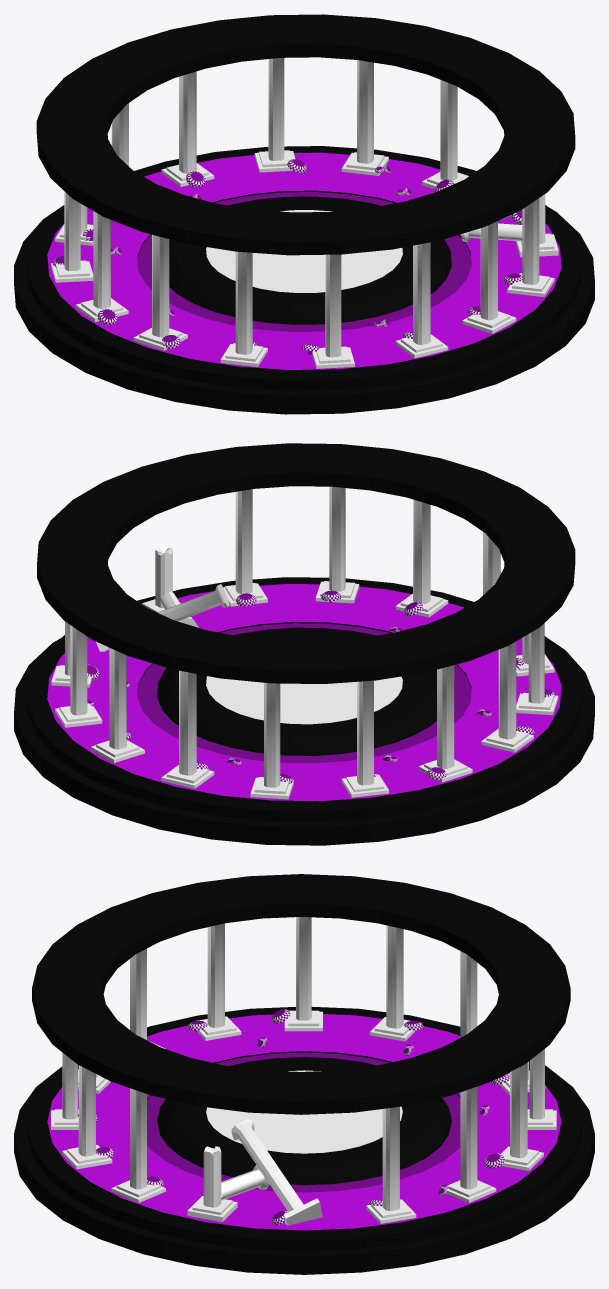
The model's file is TowerDefault.glb.
3 views of the same model, one above another, from view 1: azimuth 30°, elevation 25°; view 2: azimuth 150°, elevation 25°; view 3: azimuth 270°, elevation 25° (orthographic).
Parts seen in each view (by area): view 1: Cylinder, Circle.001, Cylinder.001, Circle, Cube.006, Cube.002, Cube.010, Cube.005, Cube.015, Cube.009, Cube.014, Cube.001 (+6 smaller); view 2: Cylinder, Circle.001, Cylinder.001, Circle, Cube.001, Cube.008, Cube.004, Cube.009, Cube.016, Cube.002, Cube.012, Cube.007 (+7 smaller); view 3: Cylinder, Circle.001, Cylinder.001, Circle, Cube.011, Cube.003, Cube.013, Cube.005, Cube.014, Cube.012, Cube.007, Cube.004 (+6 smaller).
Boxes of the visible parts, <box> form: Cylinder: <box>14,146,594,414</box>; Circle.001: <box>36,14,575,255</box>; Cylinder.001: <box>27,146,580,380</box>; Circle: <box>137,192,471,331</box>; Cube.006: <box>220,251,267,366</box>; Cube.002: <box>395,242,448,358</box>; Cube.010: <box>312,254,354,368</box>; Cube.005: <box>341,60,388,175</box>; Cube.015: <box>462,221,516,333</box>; Cube.009: <box>254,58,295,172</box>; Cube.014: <box>133,234,187,350</box>; Cube.001: <box>161,71,214,186</box>; Cylinder: <box>14,577,594,845</box>; Circle.001: <box>37,443,575,683</box>; Cylinder.001: <box>27,577,581,811</box>; Circle: <box>137,623,471,763</box>; Cube.001: <box>161,670,214,788</box>; Cube.008: <box>341,680,388,797</box>; Cube.004: <box>481,641,533,752</box>; Cube.009: <box>91,647,144,762</box>; Cube.016: <box>250,682,293,799</box>; Cube.002: <box>395,499,448,617</box>; Cube.012: <box>418,665,472,782</box>; Cube.007: <box>223,489,267,606</box>; Cylinder: <box>14,1006,594,1274</box>; Circle.001: <box>32,874,570,1114</box>; Cylinder.001: <box>27,1007,580,1240</box>; Circle: <box>147,1052,460,1192</box>; Cube.011: <box>187,1146,269,1221</box>; Cube.003: <box>231,1119,322,1225</box>; Cube.013: <box>366,1106,416,1223</box>; Cube.005: <box>446,1086,496,1202</box>; Cube.014: <box>196,923,241,1040</box>; Cube.012: <box>369,925,416,1041</box>; Cube.007: <box>111,1088,165,1202</box>; Cube.004: <box>284,917,322,1031</box>.
Bounding box in the file's own units: 200 × 62.54 × 200.
